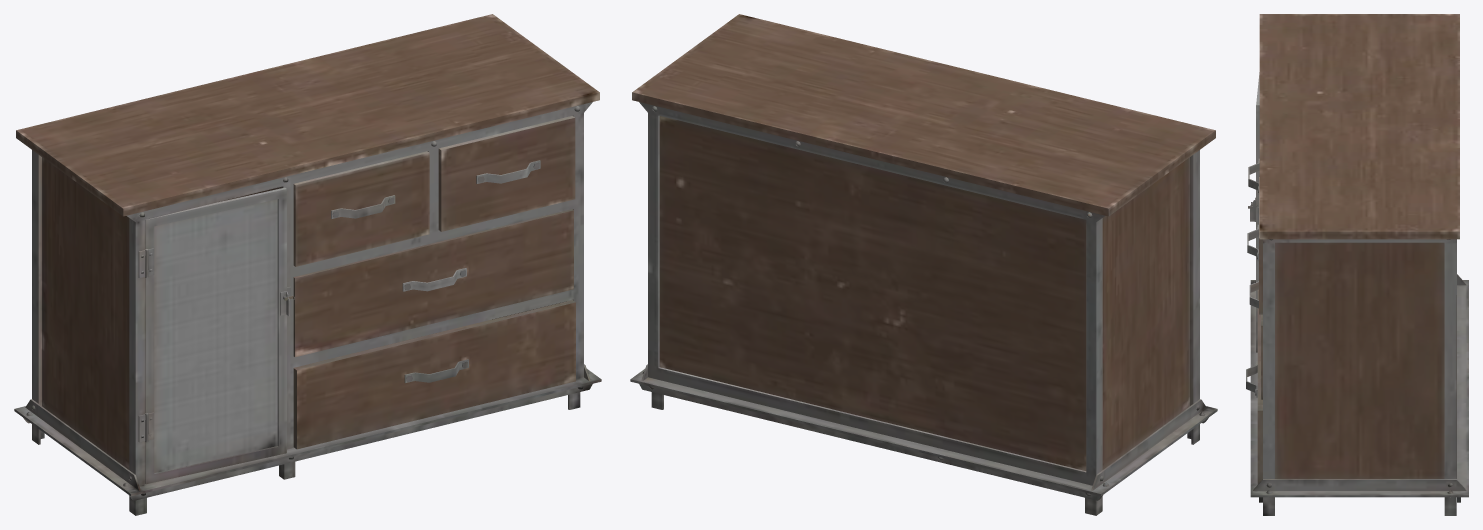
Rendered from WoodenTable_03.glb.
The picture shows the model from 3 angles, left to right: view 1: azimuth 30°, elevation 25°; view 2: azimuth 150°, elevation 25°; view 3: azimuth 270°, elevation 25°; orthographic projection. The views are drawn at different scales.
Parts seen in each view (by area): view 1: WoodenTable_03_drawer02; view 2: WoodenTable_03_drawer02; view 3: WoodenTable_03_drawer02.
Part boxes in pixels (x1=…): WoodenTable_03_drawer02: x1=14, y1=14, x2=601, y2=515; WoodenTable_03_drawer02: x1=630, y1=14, x2=1217, y2=515; WoodenTable_03_drawer02: x1=1246, y1=14, x2=1468, y2=515.
Bounding box in the file's own units: 1.33 × 0.8301 × 0.5738.
Materials: 1 (1 with a texture image).
